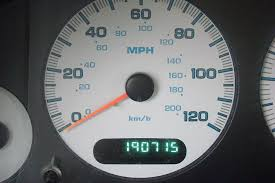Digital_Meter: (93, 139, 192, 162)
